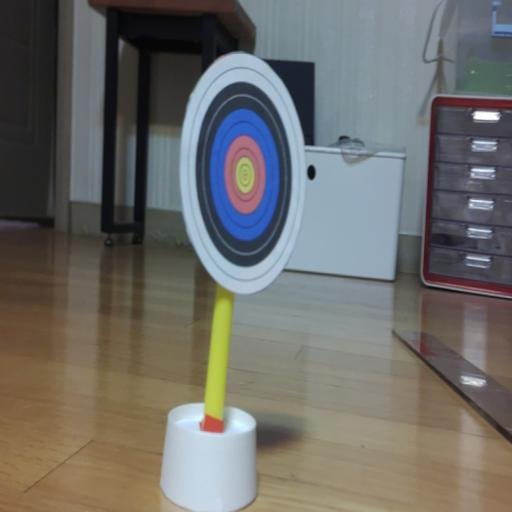target: (180, 52, 306, 294)
